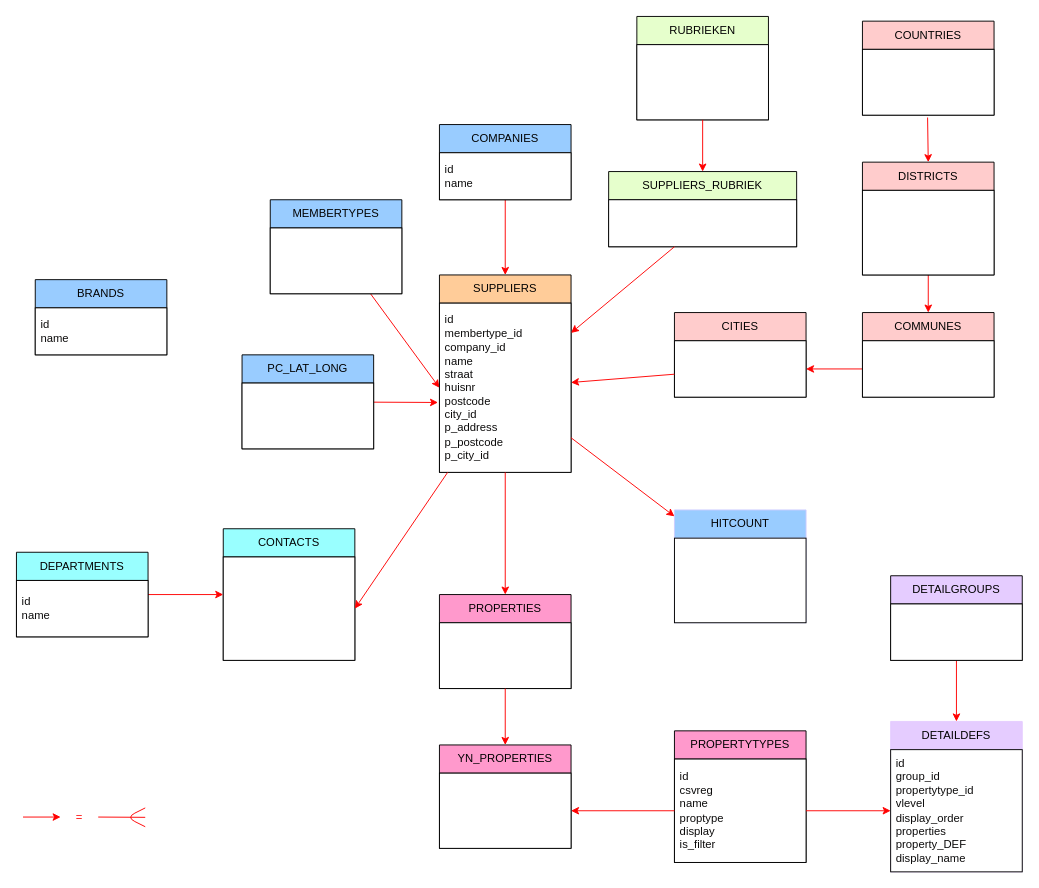
Some shapes in this 1039 by 888 pixel diagram are drawn without their labels. Here are the shapes that lost their labels. From the top down, the centre of each, then its label:
At point 702,82: "id parent display_order name".
At point 928,81: "id code name display".
At point 702,223: "id suppliers_id rubriek_id".
At point 928,232: "id country_id code name display_order".
At point 335,260: "id name sort_order ulevel".
At point 740,368: "id commune_id name".
At point 928,368: "id disctrict_id name".
At point 307,415: "id pc6 lat long".
At point 740,580: "id supplier_id year month hitcount".
At point 288,608: "id supplier_id department_id contacttype name email tel".
At point 956,631: "id display_order name".
At point 505,655: "id supplier_id propertype_id content".
At point 505,810: "id supplier_id propertytype_id content".
